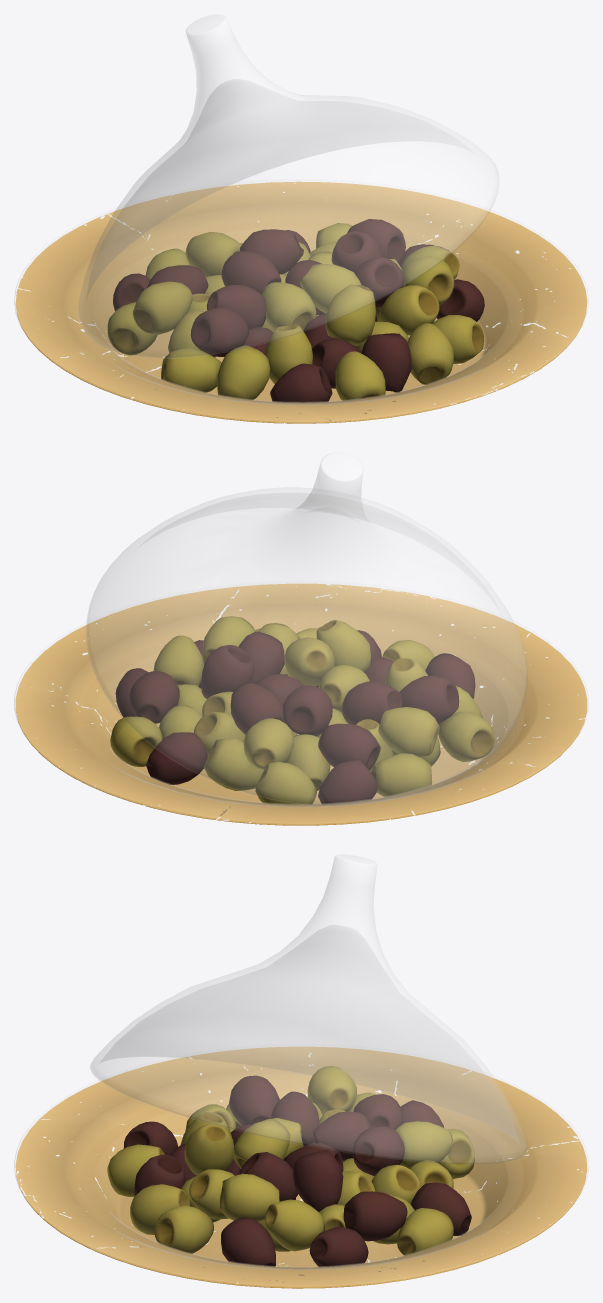
The model's file is dish-with-olives.glb.
The picture shows the model from 3 angles, top to bottom: view 1: azimuth 30°, elevation 25°; view 2: azimuth 150°, elevation 25°; view 3: azimuth 270°, elevation 25°; orthographic projection.
Parts seen in each view (by area): view 1: glassCover, goldLeaf, glassDish, olives; view 2: glassCover, glassDish, goldLeaf, olives; view 3: glassCover, goldLeaf, olives, glassDish.
Part boxes in pixels (x1=…): glassCover: x1=78, y1=14, x2=499, y2=358; goldLeaf: x1=15, y1=181, x2=587, y2=423; glassDish: x1=14, y1=179, x2=588, y2=422; olives: x1=107, y1=219, x2=484, y2=402; glassCover: x1=86, y1=452, x2=527, y2=805; glassDish: x1=14, y1=581, x2=588, y2=824; goldLeaf: x1=15, y1=583, x2=587, y2=825; olives: x1=110, y1=616, x2=494, y2=804; glassCover: x1=90, y1=854, x2=527, y2=1164; goldLeaf: x1=15, y1=1047, x2=587, y2=1288; olives: x1=107, y1=1066, x2=474, y2=1267; glassDish: x1=14, y1=1057, x2=588, y2=1287.
Bounding box in the file's own units: 0.4593 × 0.2855 × 0.4593.
Materials: 4 (2 with a texture image).
